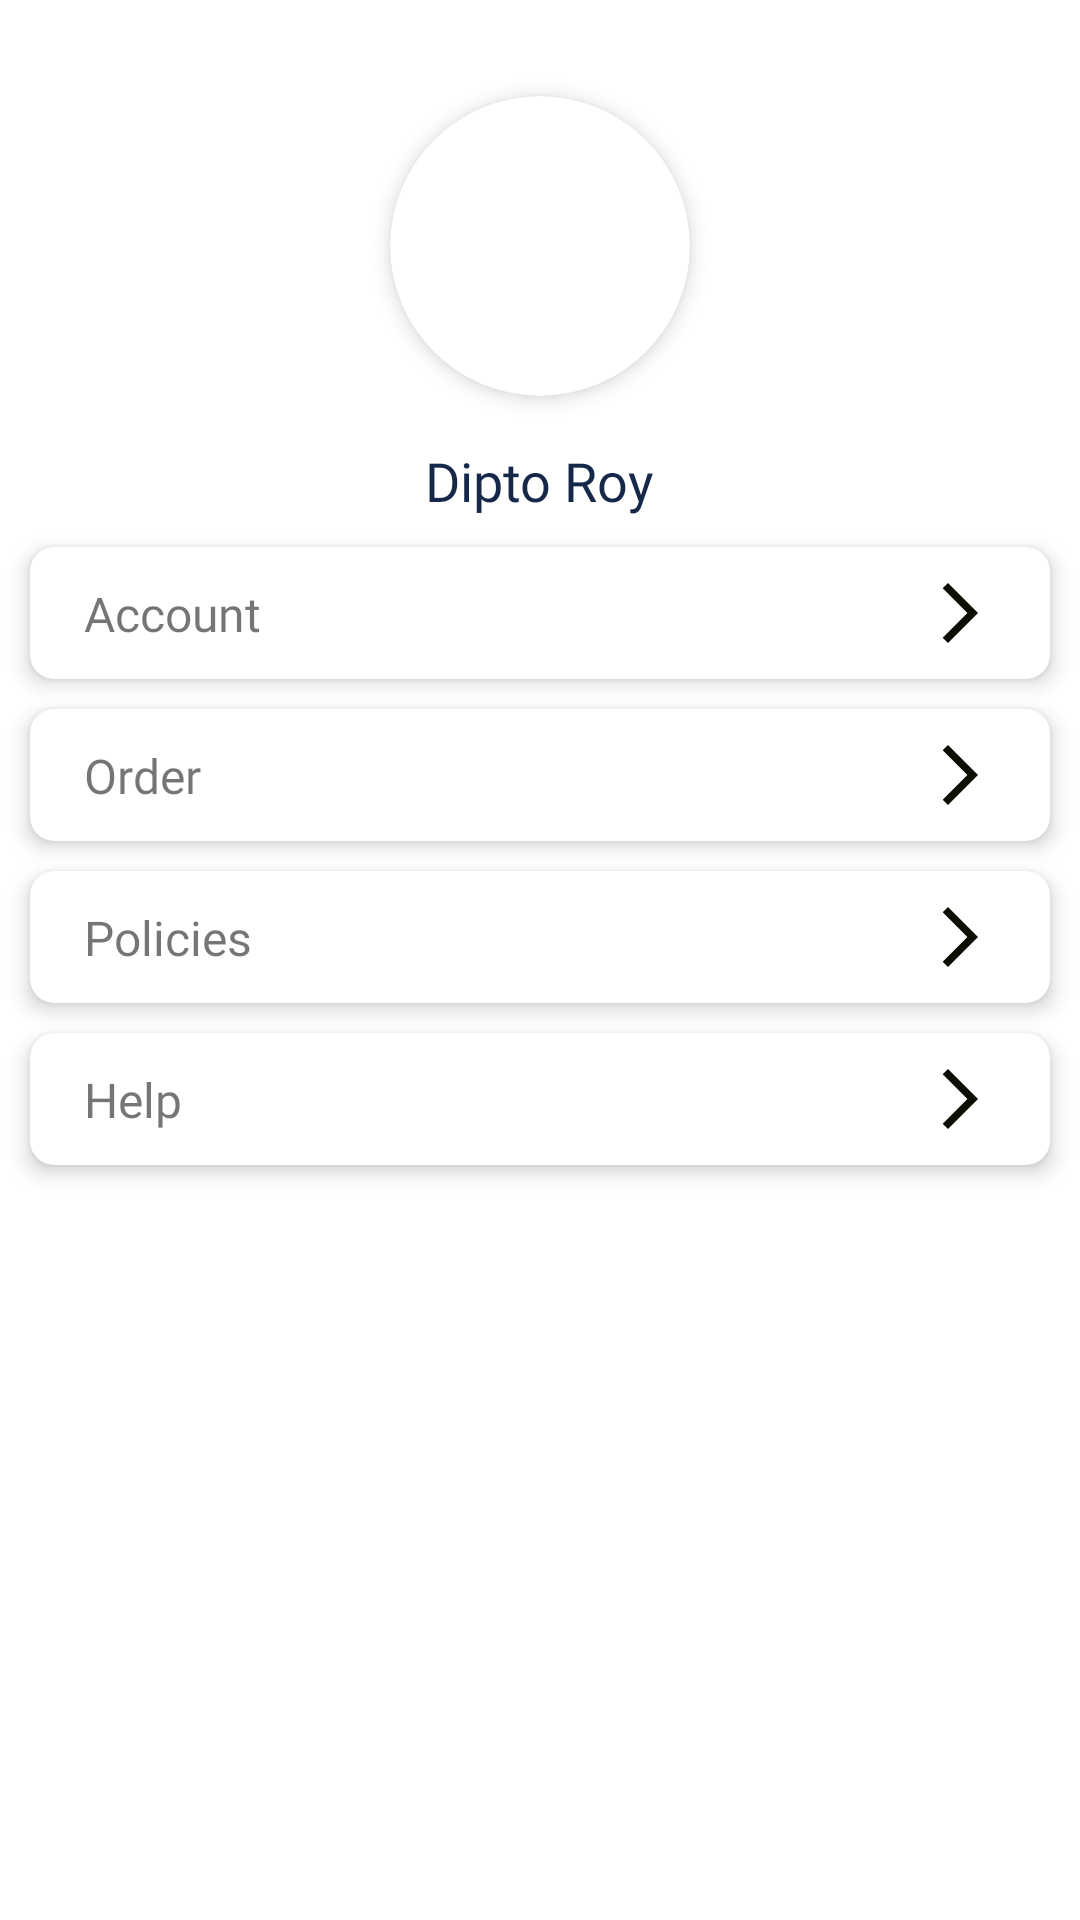

Screen size 1080px×1920px. Icon name, then its center in pixels as point (x, y):
arrow forward: point (960, 613), point (960, 775), point (960, 937), point (960, 1099)
